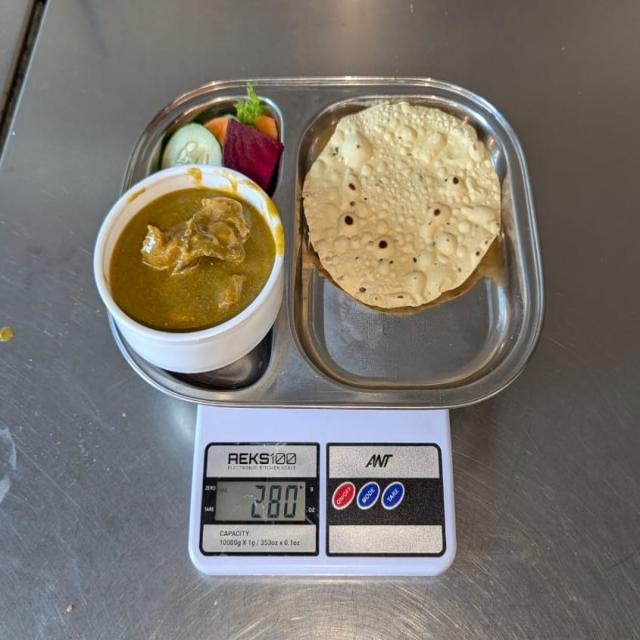Chicken Curry: (107, 182, 281, 337)
Papad: (300, 97, 508, 311)
Salad: (157, 79, 284, 168)
